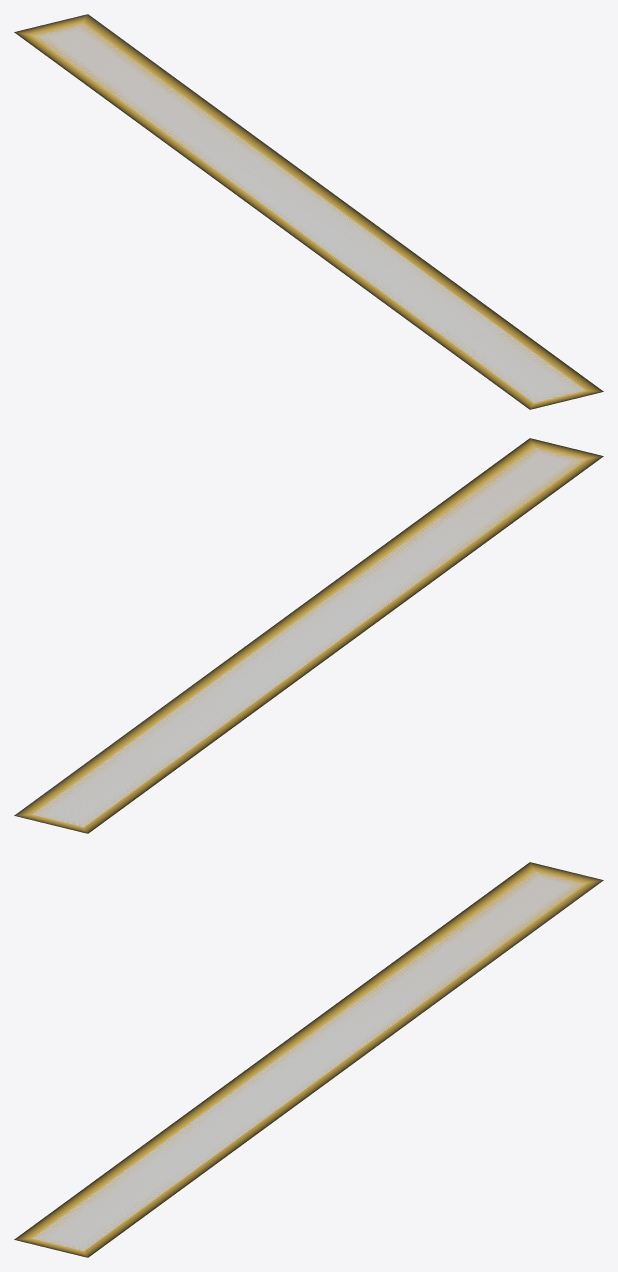
Rendered from s_ceiling_light_light_on.dae.
3 views of the same model, one above another, from view 1: azimuth 30°, elevation 25°; view 2: azimuth 150°, elevation 25°; view 3: azimuth 330°, elevation 25° (orthographic).
Visible parts, largest first — view 1: s_ceiling_light_light_on_L200, s_ceiling_light_light_on_L50; view 2: s_ceiling_light_light_on_L200, s_ceiling_light_light_on_L50; view 3: s_ceiling_light_light_on_L200, s_ceiling_light_light_on_L50.
Boxes of the visible parts, x1=… form: s_ceiling_light_light_on_L200: x1=14, y1=14, x2=603, y2=409; s_ceiling_light_light_on_L50: x1=32, y1=23, x2=585, y2=402; s_ceiling_light_light_on_L200: x1=14, y1=438, x2=603, y2=833; s_ceiling_light_light_on_L50: x1=32, y1=447, x2=584, y2=826; s_ceiling_light_light_on_L200: x1=14, y1=862, x2=603, y2=1257; s_ceiling_light_light_on_L50: x1=32, y1=871, x2=584, y2=1250.
Size of the model in its own units: 0.3315 by 4 by 0.005.
